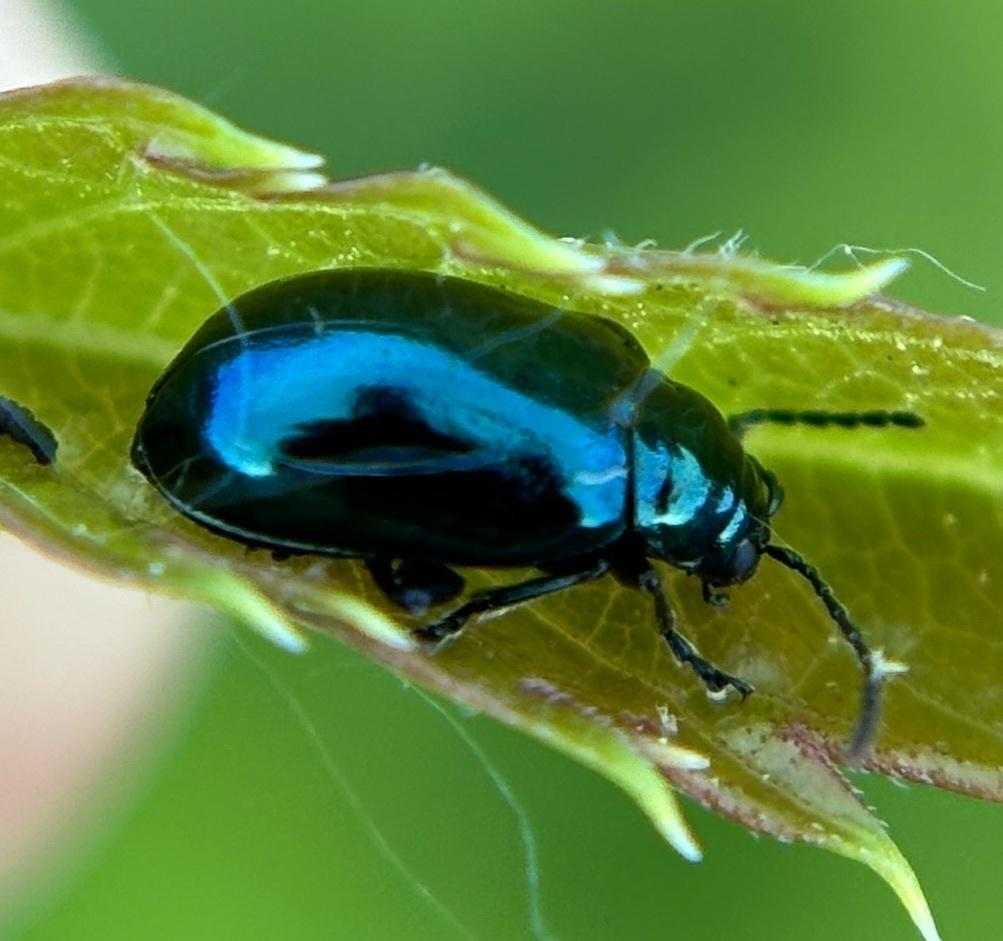flea_beetle: (80, 205, 994, 804)
